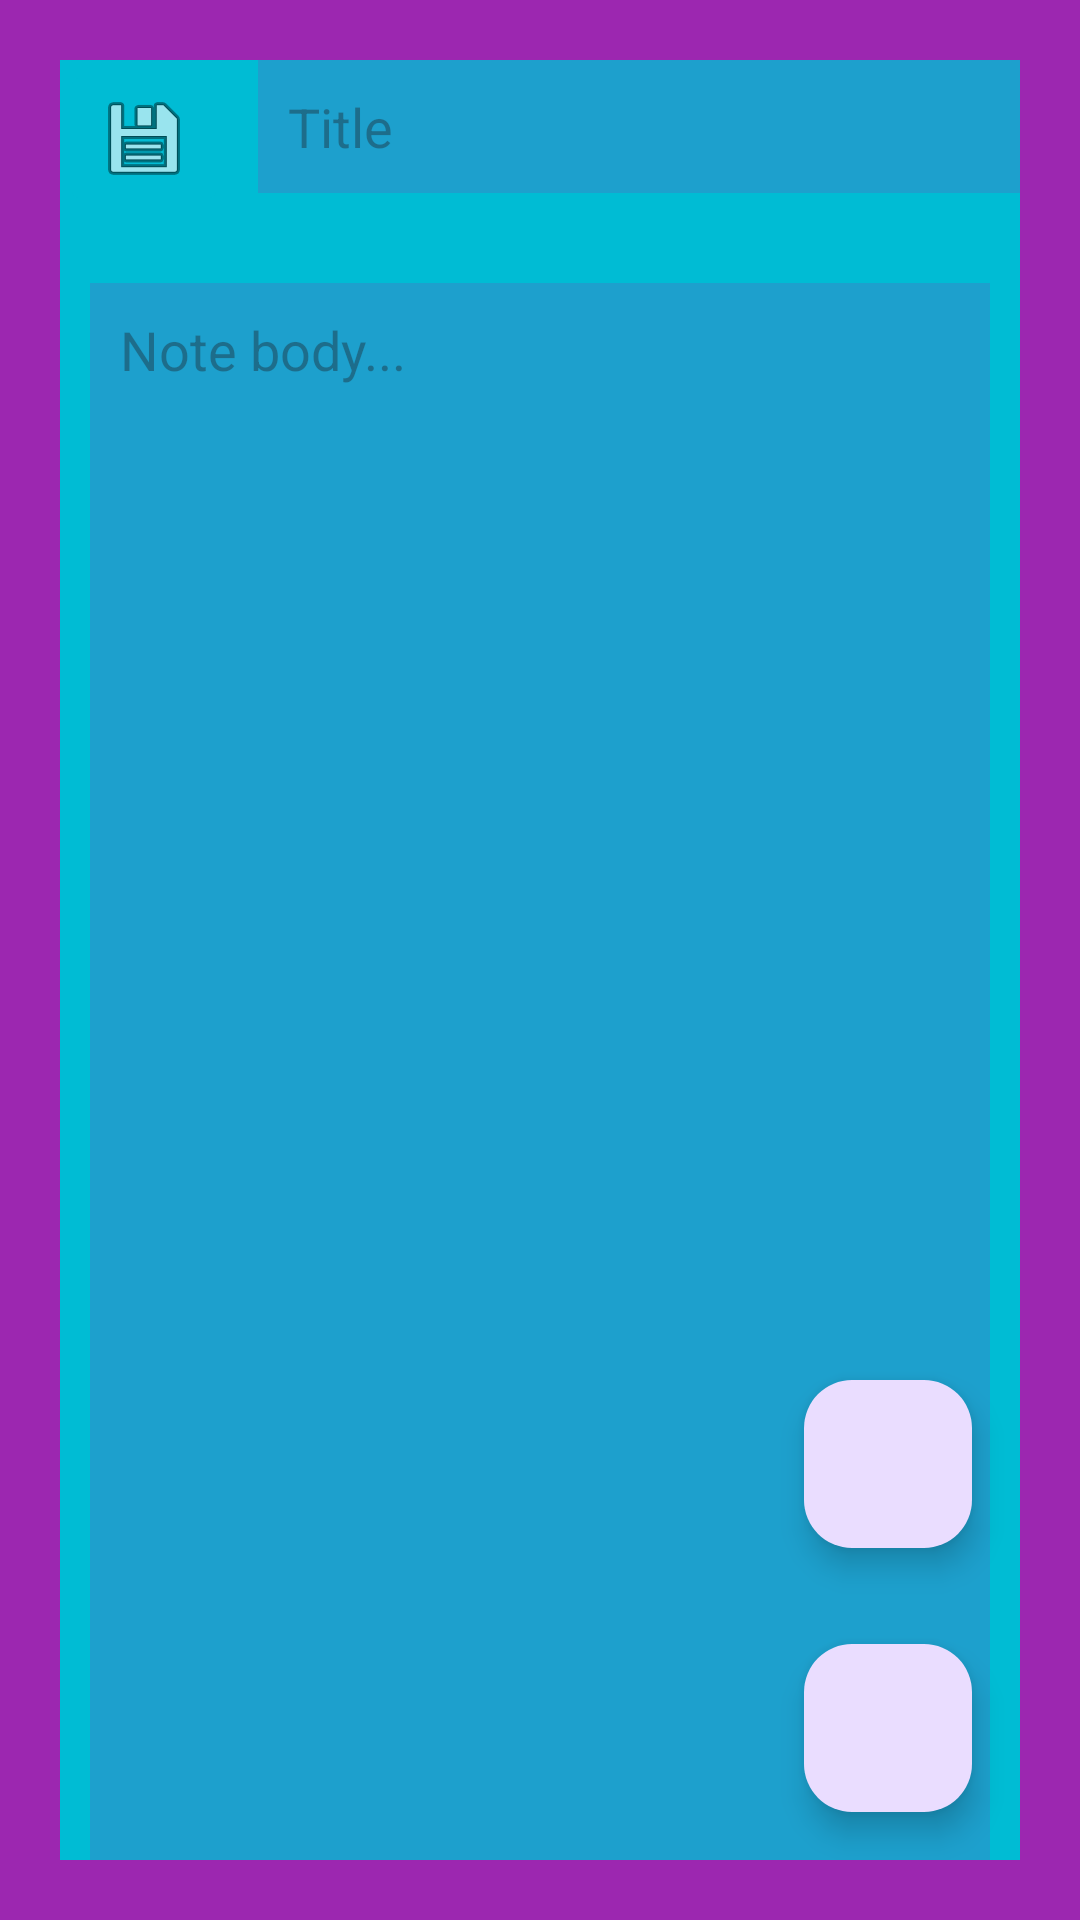

Icons on this 1080*1920 Android screen, each with its box as box=[x1, y1, x2, y2]:
save: box=[108, 102, 180, 175]
